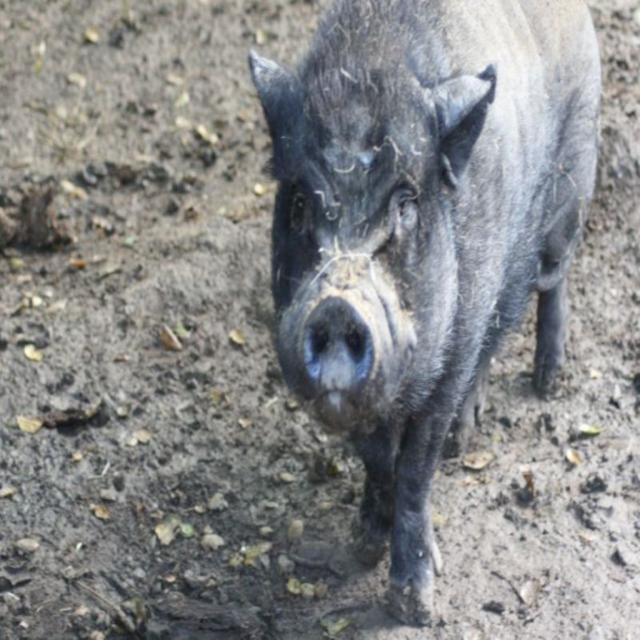Pig: (248, 0, 602, 627)
